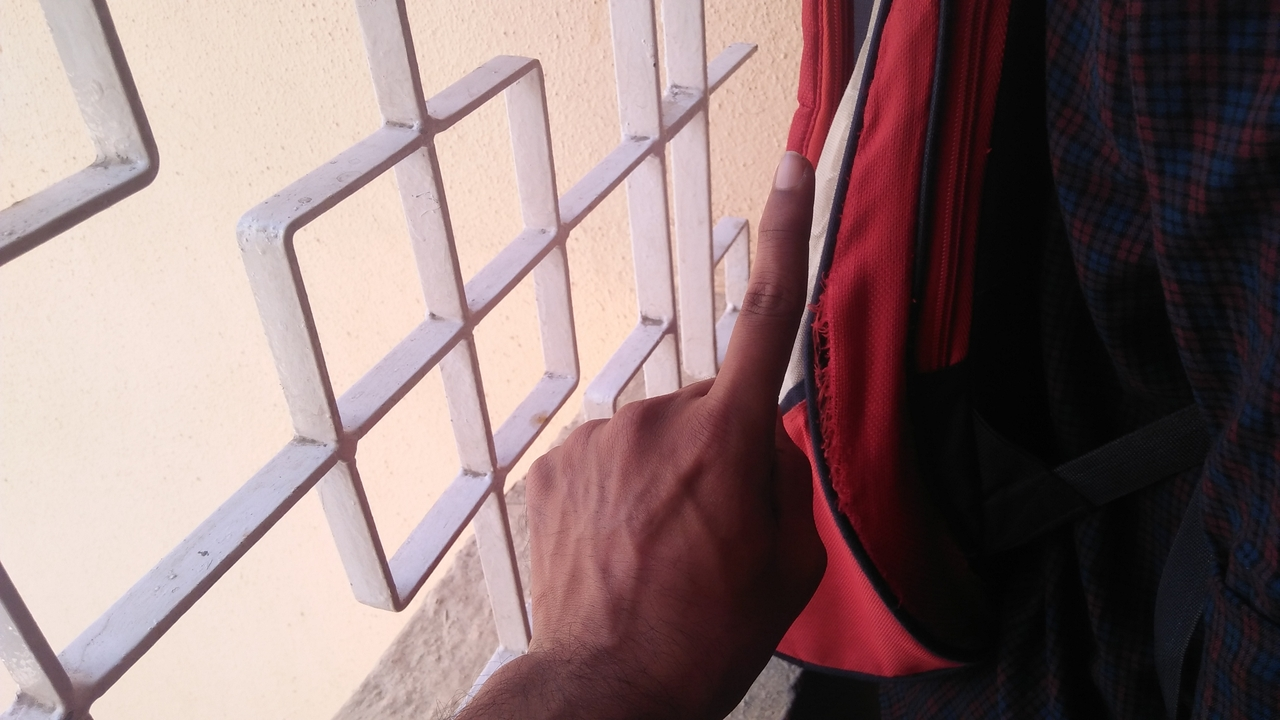fingertip: (758, 154, 816, 192)
